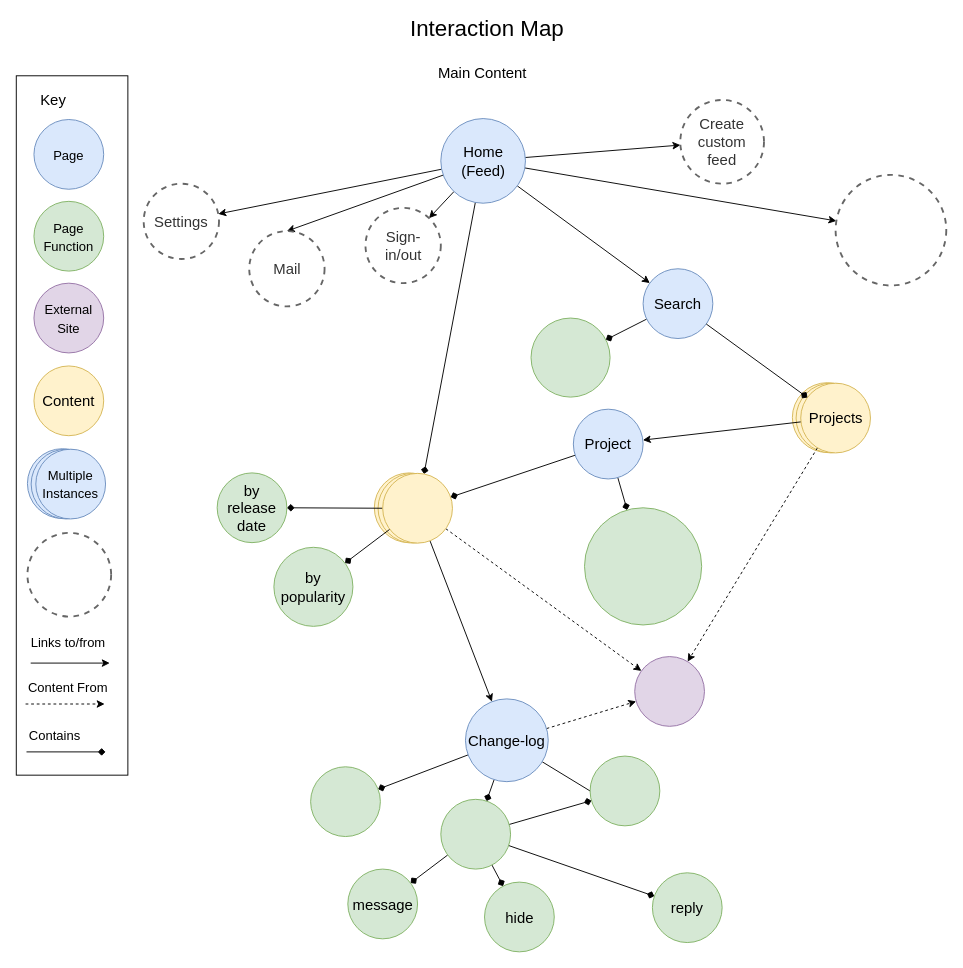
The diagram is 963 pixels wide and 968 high, and some of its shapes have lost their labels. Each missing label, with the centre of its shape:
add or remove from custom feeds: [643,566]
by relevance: [570,357]
Change-logs: [417,507]
comment: [475,833]
Edit feed (if moderator and custom): [890,229]
export log: [345,801]
GitHub: [669,691]
Page Reference: [69,574]
vote: [624,790]
